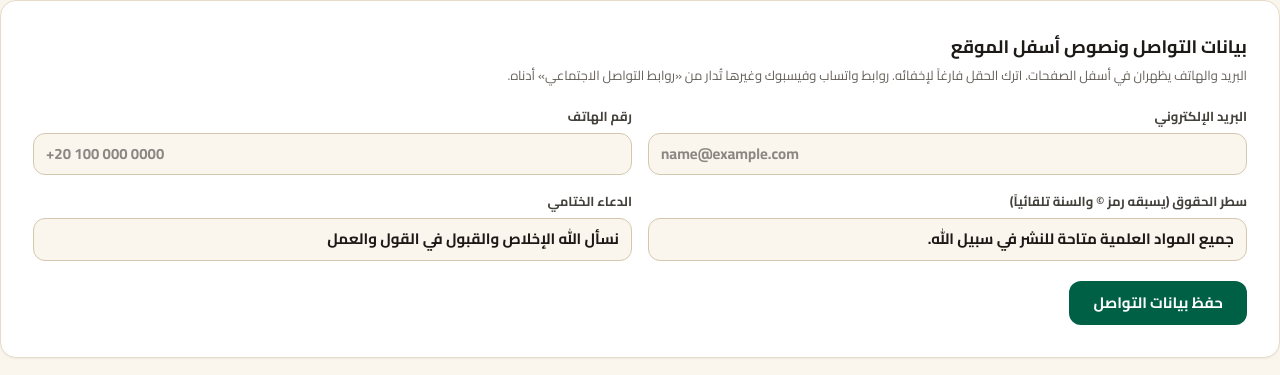
Test: ContactSettings › refuses an invalid e-mail with the message and does not save
Type "not-an-email" into the field with placeholder "name@example.com".
click(948, 154); type("not-an-email")  # box [648,133,1247,175]
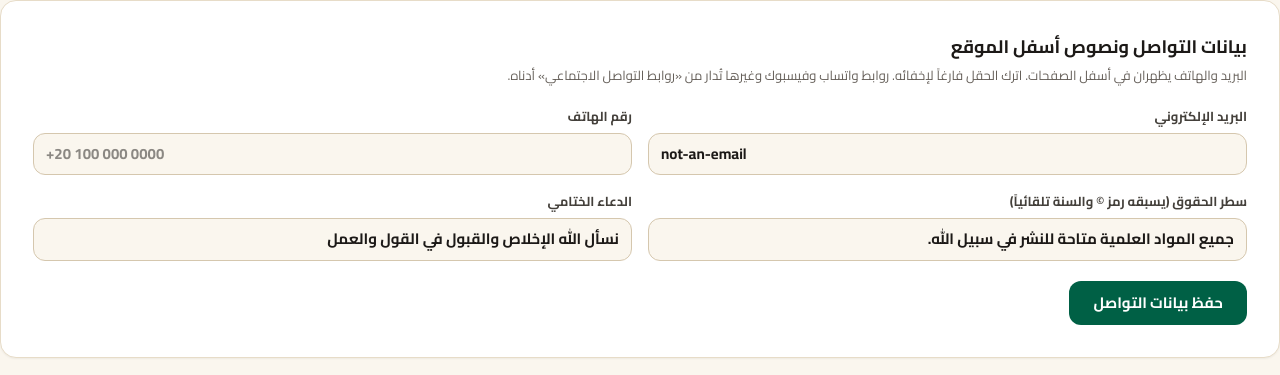
Submit the form
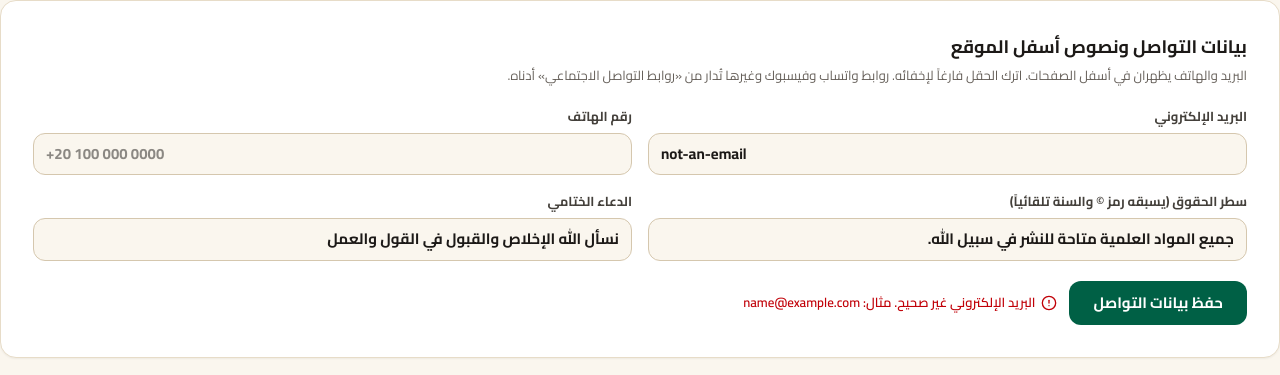
Expected: the text "البريد الإلكتروني غير صحيح. مثال: name@example.com" is shown, [743,292,1057,313]
